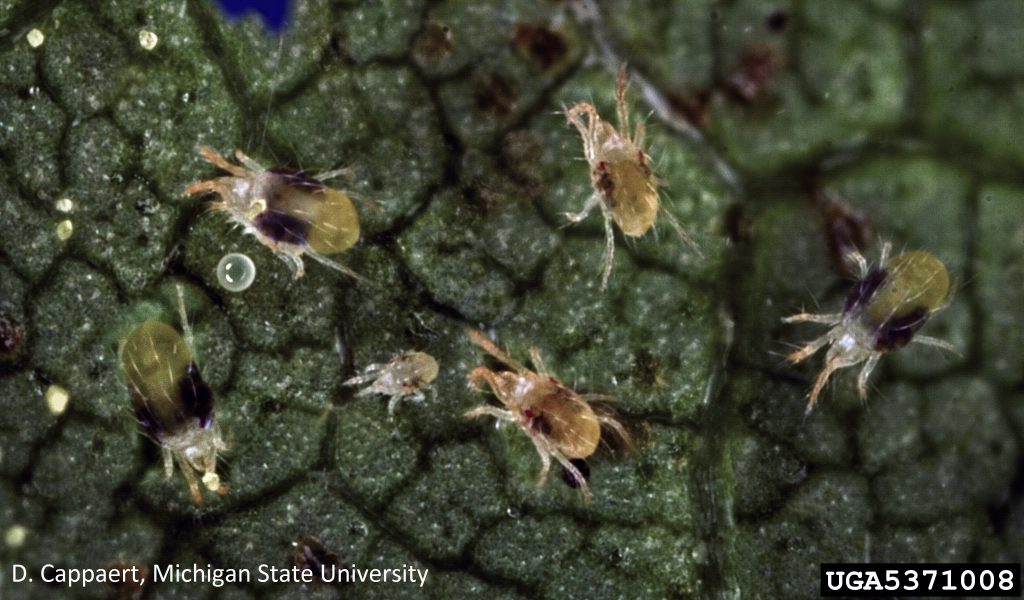Mites: (773, 191, 956, 437), (464, 334, 650, 535), (172, 120, 390, 285), (541, 66, 682, 283), (103, 301, 251, 491)
